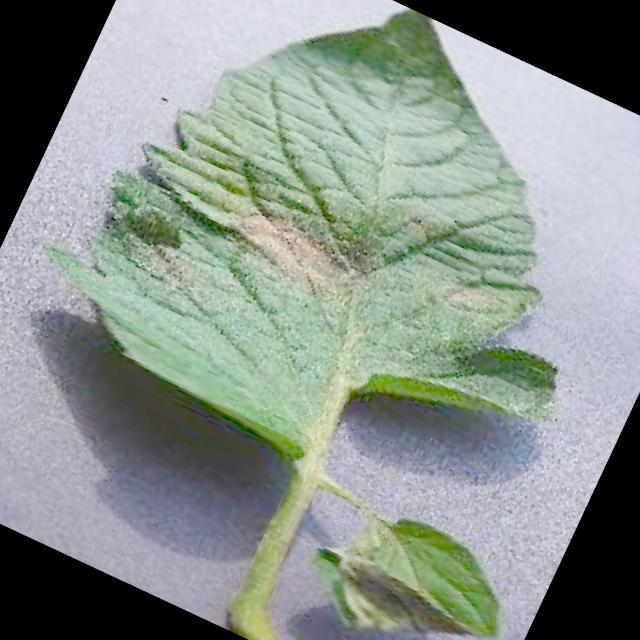Tomato late blight leaf: (6, 0, 640, 550), (286, 474, 535, 640)
